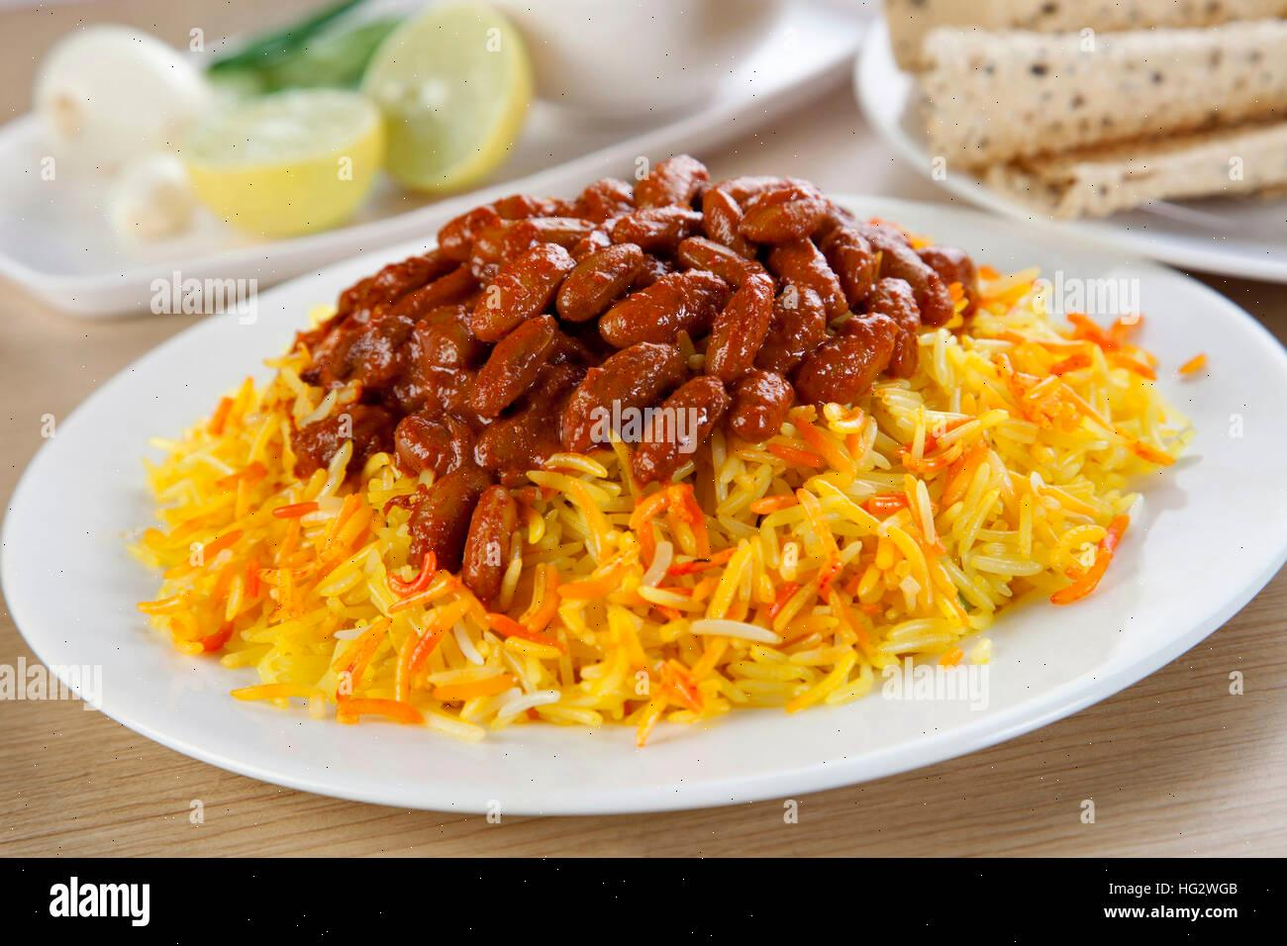rajma: (322, 176, 911, 406)
